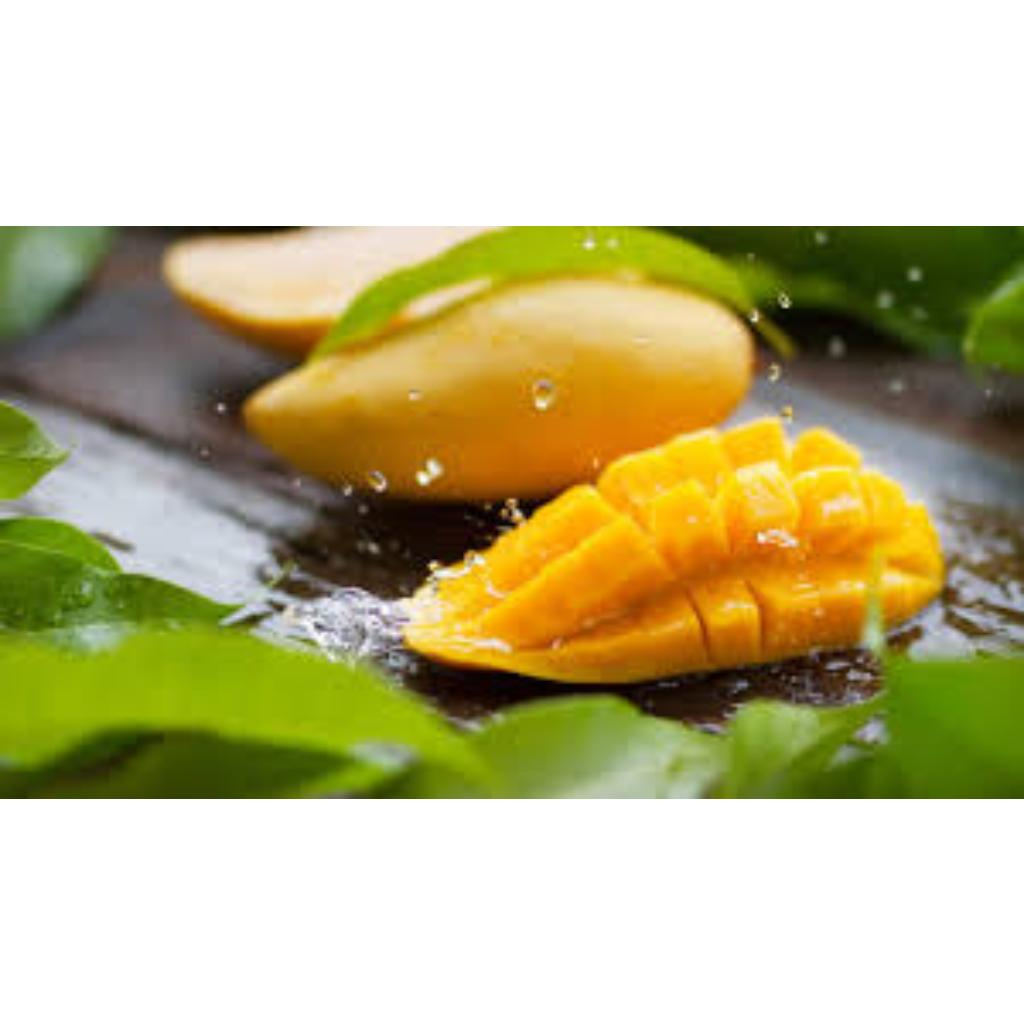mango: (399, 416, 945, 689), (238, 257, 758, 495)
